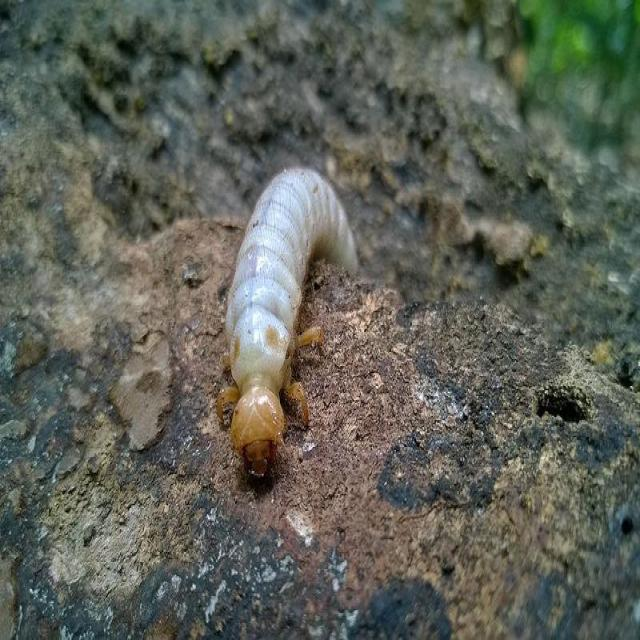Grub-Adult-: (204, 140, 360, 485)
